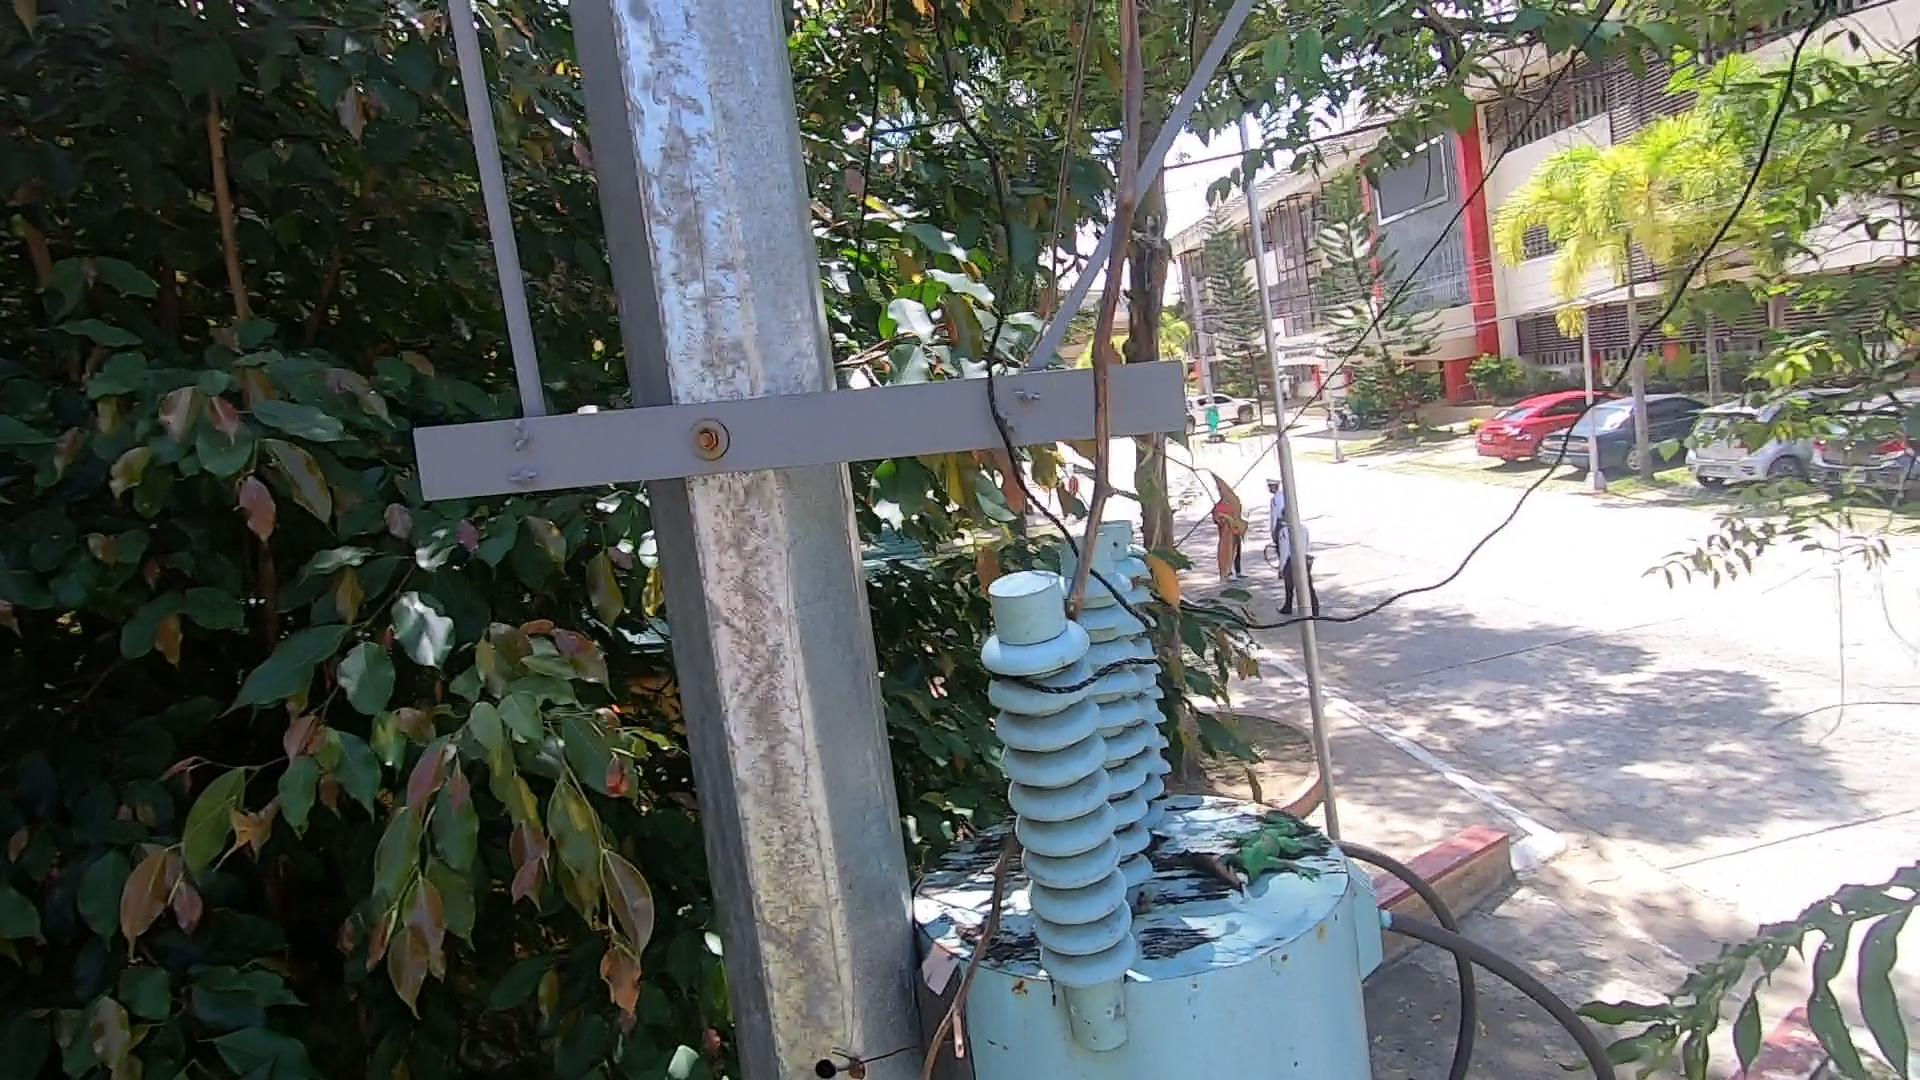leaf: (951, 825, 1026, 982), (1164, 839, 1251, 889), (1135, 553, 1183, 607)
tree branch: (770, 3, 1241, 1080)
